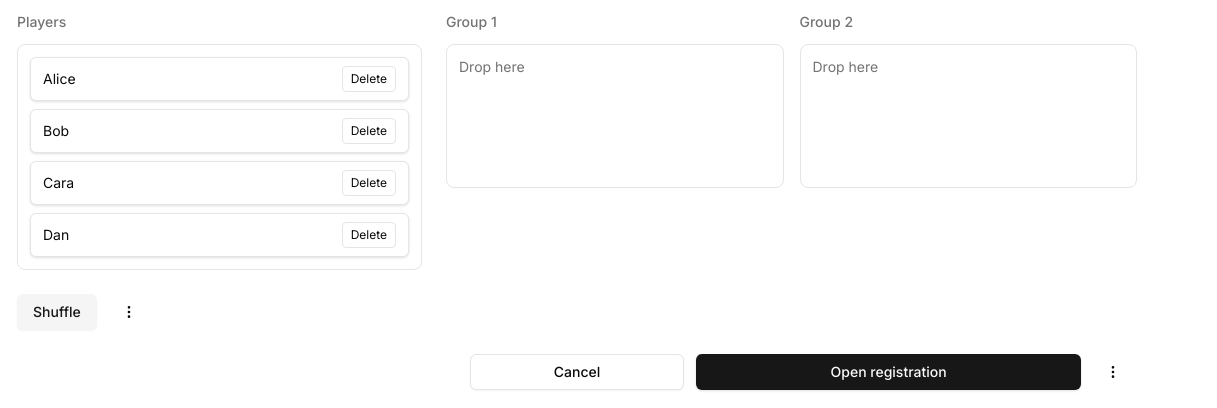
Test: TeamsAssignment component › shuffle distributes players and enables Start (Arrange-Act-Assert)
Click the button "Shuffle".
click(57, 312)  # box [17,294,97,330]
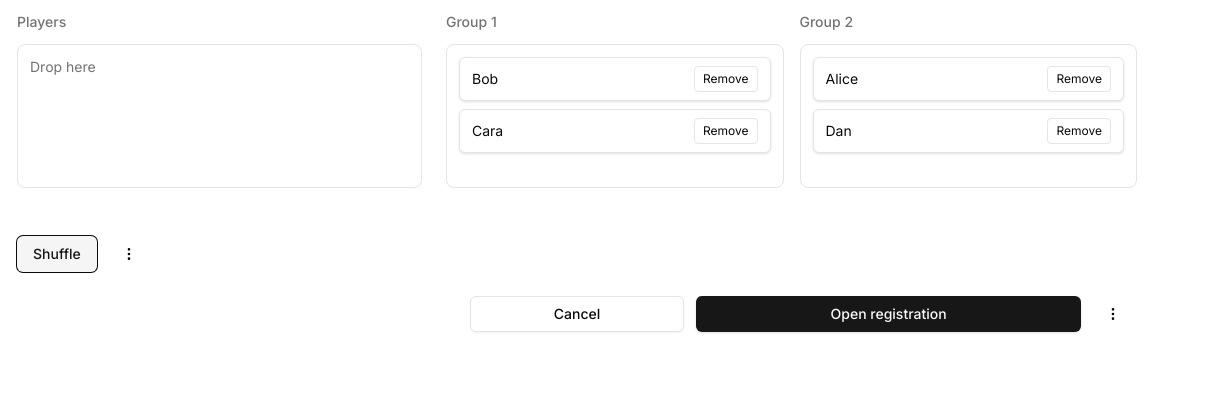
Now open the menu and ensure Start is enabled
Click the button named "more actions".
click(1113, 314)  # box [1089,296,1137,332]
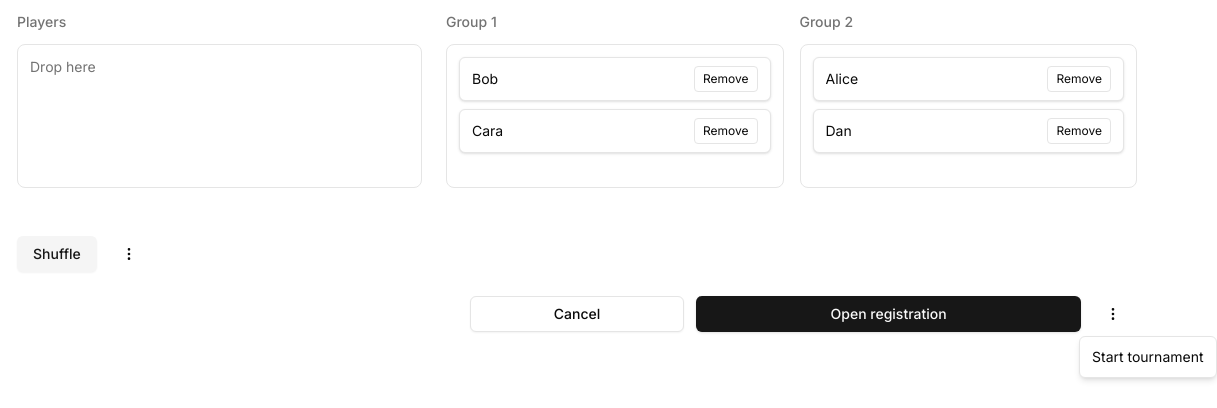
Expected: the menu item "Start tournament" is enabled, [1084,341,1212,373]
